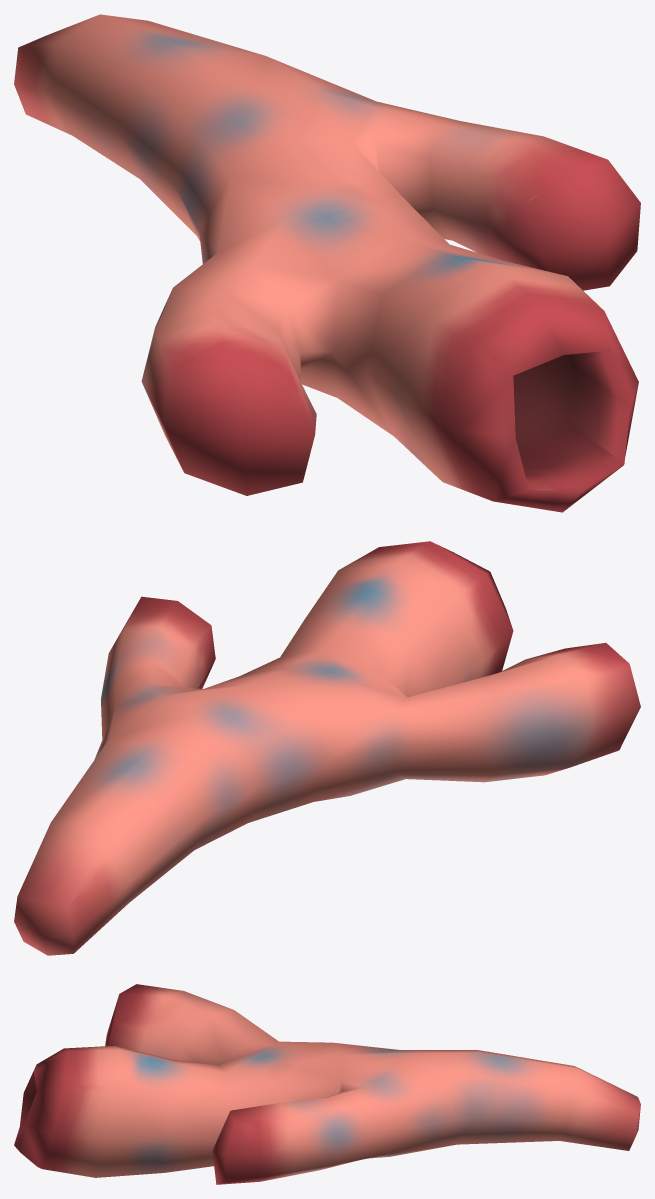
File: coral.glb
The picture shows the model from 3 angles, top to bottom: view 1: azimuth 30°, elevation 25°; view 2: azimuth 150°, elevation 25°; view 3: azimuth 270°, elevation 25°; orthographic projection. The views are drawn at different scales.
Parts seen in each view (by area): view 1: Coral; view 2: Coral; view 3: Coral.
Boxes of the visible parts, x1=… form: Coral: x1=14, y1=14, x2=640, y2=512; Coral: x1=14, y1=541, x2=640, y2=955; Coral: x1=14, y1=984, x2=640, y2=1184.
Bounding box in the file's own units: 0.3514 × 0.1271 × 0.5818.
Materials: 1 (1 with a texture image).
